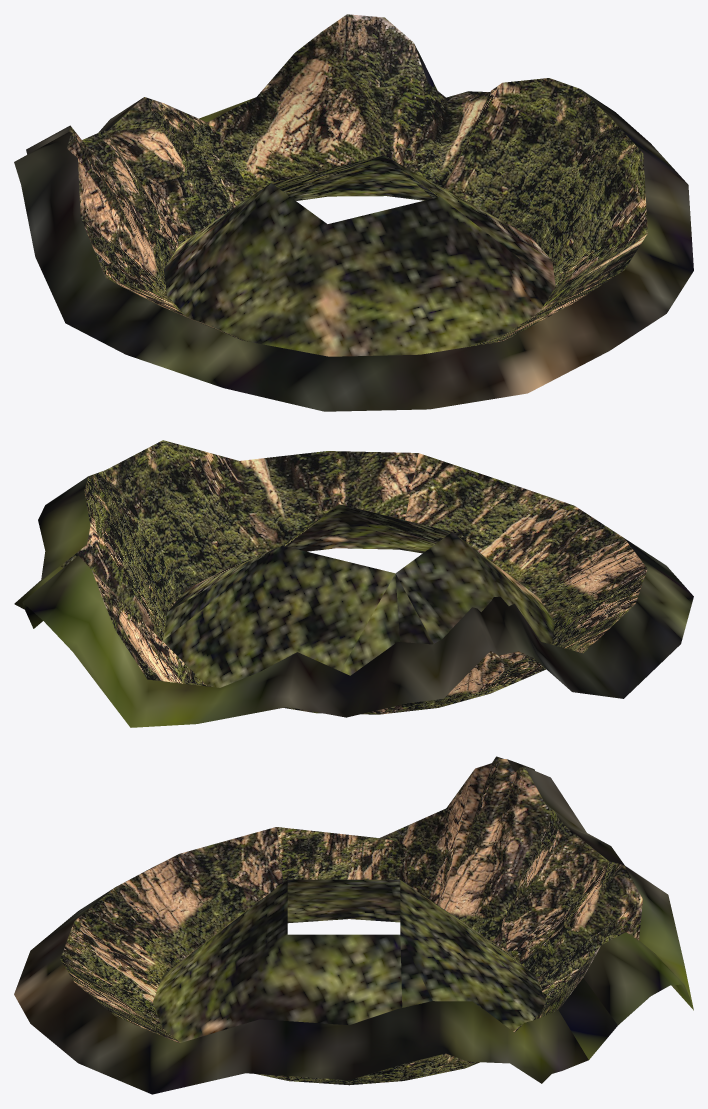
The model's file is terrain1.fbx.
3 views of the same model, one above another, from view 1: azimuth 30°, elevation 25°; view 2: azimuth 150°, elevation 25°; view 3: azimuth 270°, elevation 25° (orthographic).
Parts seen in each view (by area): view 1: terrain; view 2: terrain; view 3: terrain.
Boxes of the visible parts, x1,y1,x2,y2 form: terrain: (14,14,693,411); terrain: (14,440,693,727); terrain: (14,756,693,1094).
Bounding box in the file's own units: 2307 × 545 × 2387.
Materials: 1 (1 with a texture image).
